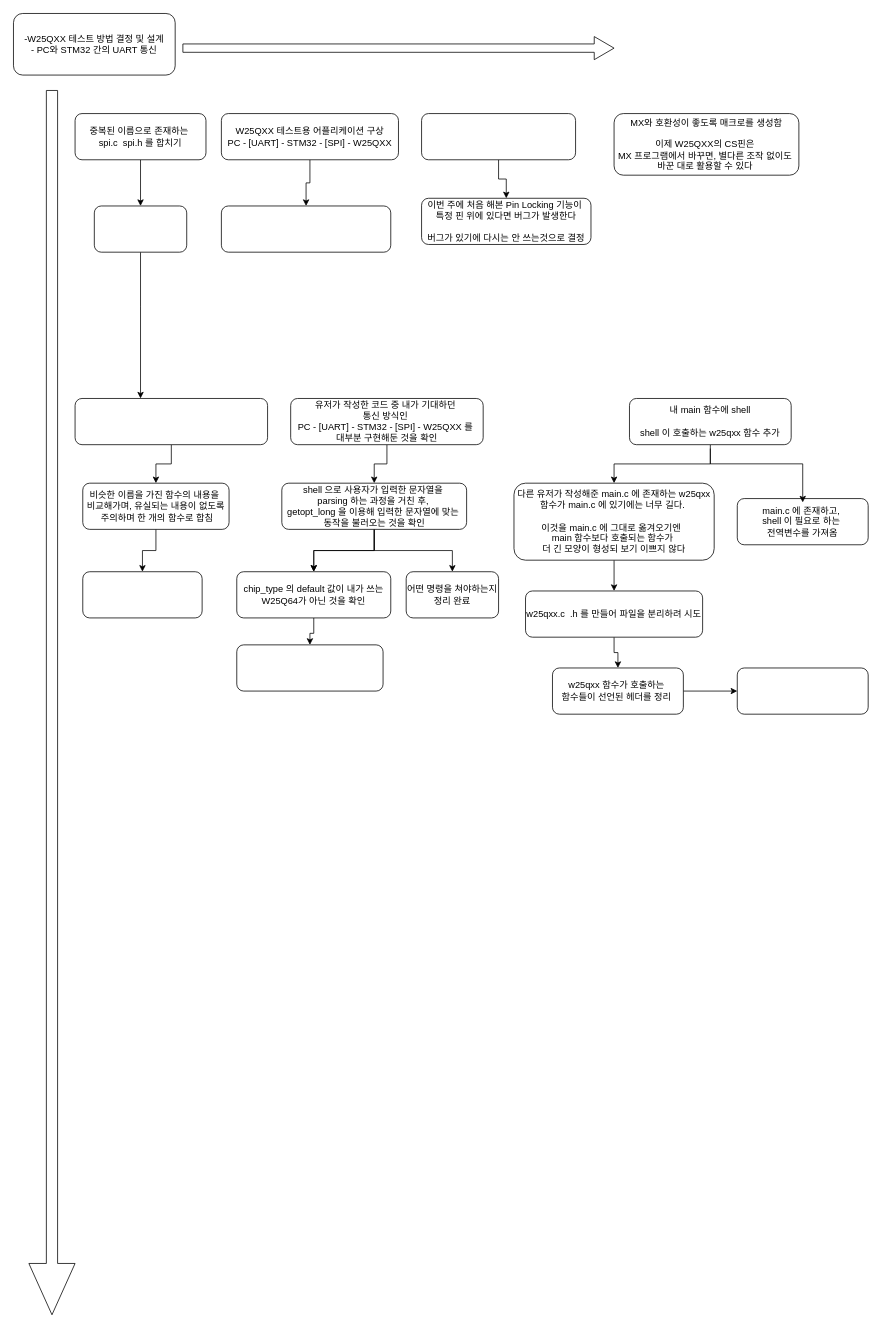
The diagram is 882 pixels wide and 1328 high, and some of its shapes have lost their labels. The shapes that lost their labels are listed below. From the top down, each one's centre as x and y in pixels, then its label:
At point 498,136: "CS 핀을 추가하는 과정 중 MX 프로그램 상에서 잘못된 조작을 하는 바람에 읽을 수 없는 MX 파일이 생성됨".
At point 140,228: "컴파일 성공".
At point 306,228: "SPI 특유의 장점을 살리기 위해 1개의 SPI 통신에 2개의 주변장치를 달기로 함 ILI9341, W25QXX".
At point 171,421: "spi.c, .h 를 합친 것은 좋으나, 초기화 함수 등 비슷한 기능에 대해 함수가 2개씩 있는 것은 혼동을 줄 수 있다.".
At point 142,594: "SPI Mode 0 / SPI Mode 3 문제를 마주했으나 처리 완료".
At point 309,667: "터미널 통신에서 이를 명시해서 바꾸는게 잘 되는지 확인하고, 안되면 Default 값을 변경하리고 함".
At point 802,690: "w25qxx.h 를 main.c에서 호출하도록 함".
